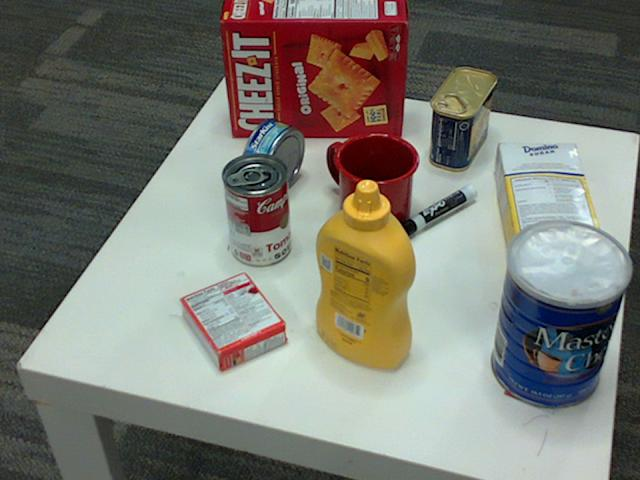cracker_box: (222, 0, 408, 136)
gelatin_box: (176, 271, 283, 372)
large_marker: (392, 188, 477, 240)
master_chef_can: (492, 221, 634, 410)
mug: (326, 131, 419, 234)
mustard_bottle: (315, 181, 415, 369)
potted_meat_can: (428, 68, 494, 172)
sugar_box: (494, 142, 604, 272)
tomato_soup_can: (222, 153, 290, 267)
tuna_fish_can: (239, 118, 304, 196)
